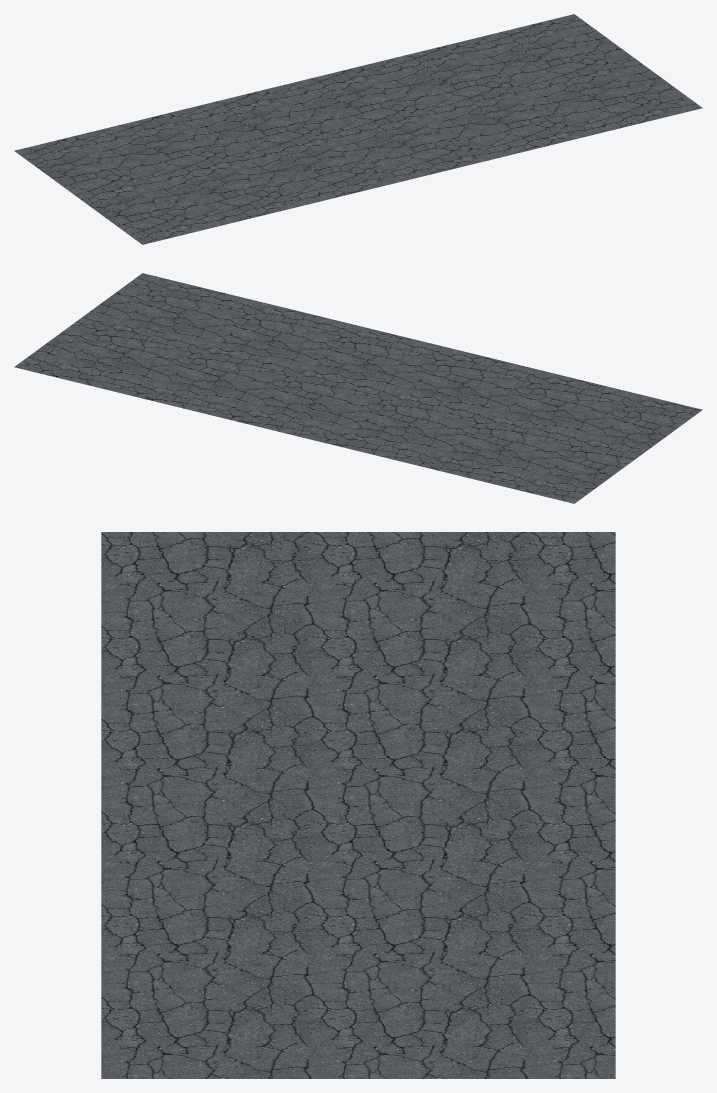
File: Course_Floor.fbx
3 renders of one model, top to bottom at view 1: azimuth 30°, elevation 25°; view 2: azimuth 150°, elevation 25°; view 3: azimuth 270°, elevation 25°, orthographic. The views are drawn at different scales.
Visible parts, largest first — view 1: Course_Floor; view 2: Course_Floor; view 3: Course_Floor.
Part boxes in pixels (<box>): Course_Floor: <box>14,14,702,244</box>; Course_Floor: <box>14,273,702,503</box>; Course_Floor: <box>101,532,615,1078</box>.
Bounding box in the file's own units: 258 × 0 × 103.
Materials: 1 (1 with a texture image).
